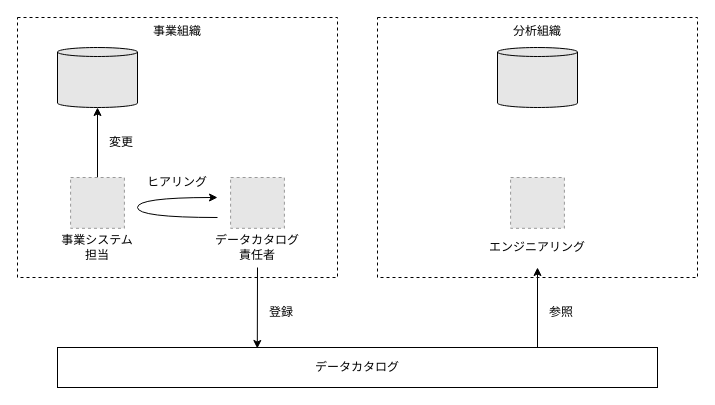
Some shapes in this 715 by 405 pixel diagram are drawn without their labels. Grey dashed boxes stand in for pictures. Here are the shapes that lost their labels. From the top down, the box of each, then its label:
(56, 46, 138, 108): 事業システム
(496, 46, 578, 108): 分析システム
